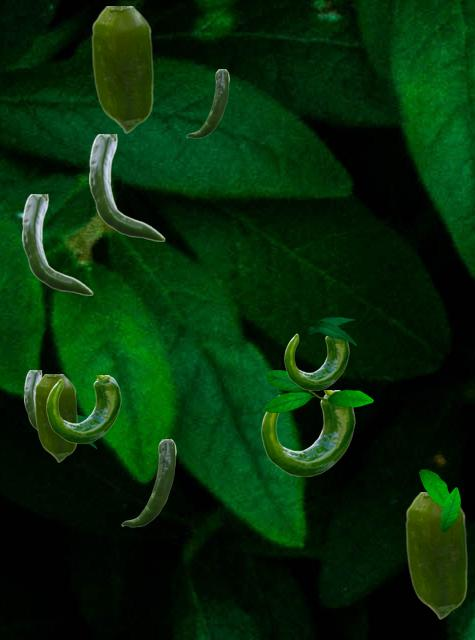green_chili: (89, 134, 164, 240), (261, 390, 354, 475), (91, 6, 152, 132), (405, 492, 466, 618), (22, 194, 92, 294), (46, 375, 120, 442), (121, 439, 175, 526), (34, 374, 76, 461), (284, 333, 348, 389), (186, 69, 228, 137), (24, 370, 42, 429)
